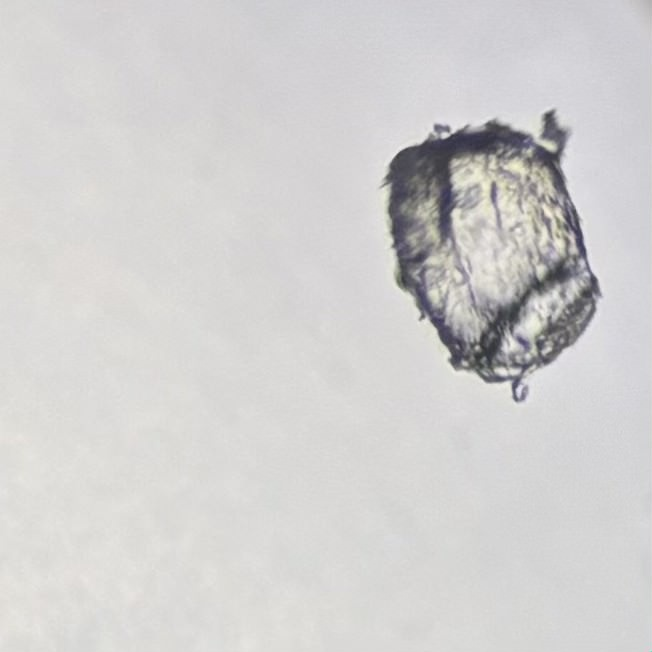microplastic: (376, 103, 606, 402)
